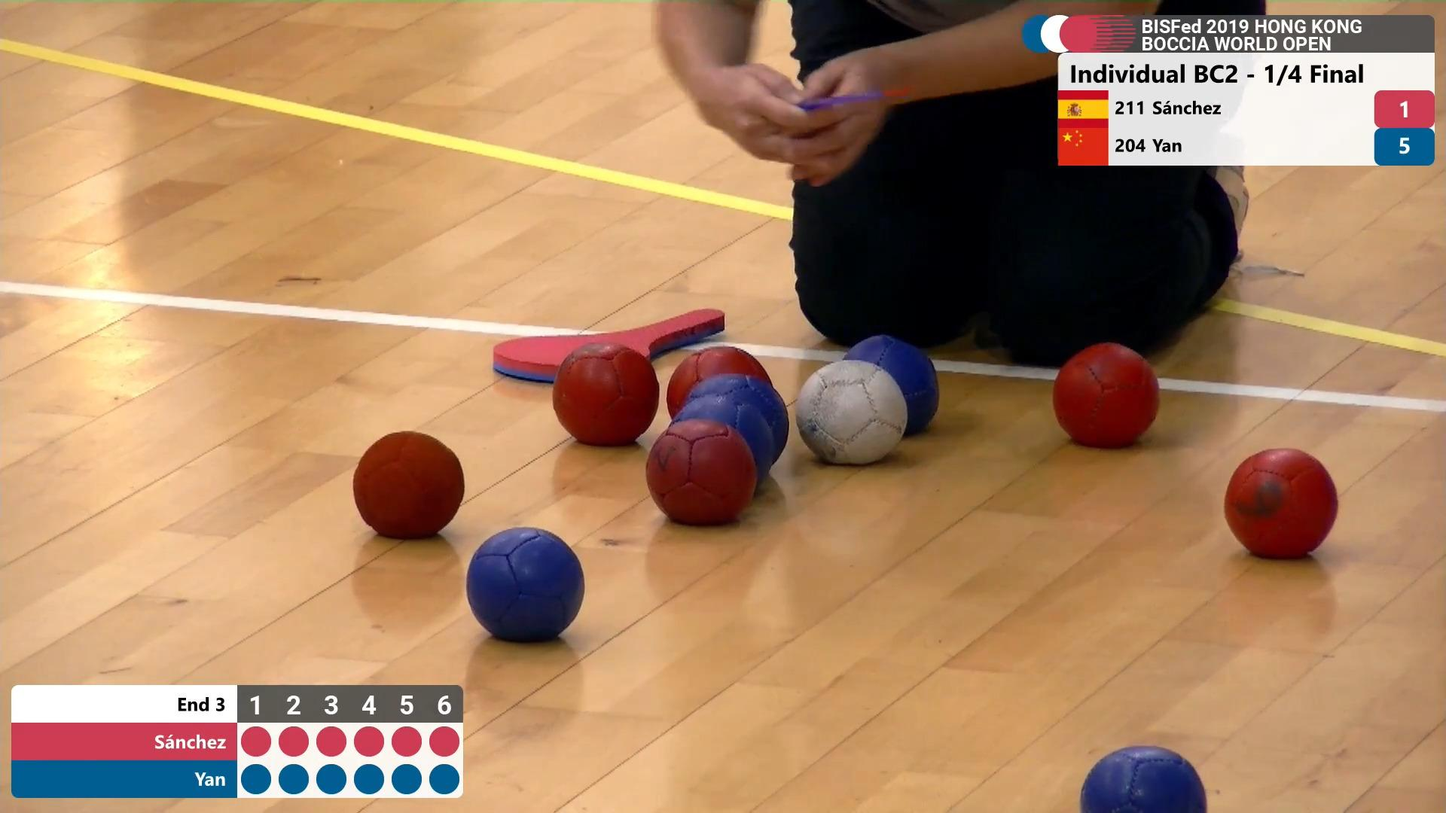blue_ball: (461, 527, 584, 640), (1077, 743, 1211, 813), (853, 335, 945, 420), (680, 395, 778, 469), (708, 373, 791, 437)
red_ball: (343, 429, 467, 540), (1222, 446, 1339, 559), (650, 422, 757, 529), (1051, 343, 1160, 448), (554, 343, 661, 446), (667, 341, 770, 397)
white_ball: (795, 358, 909, 463)
